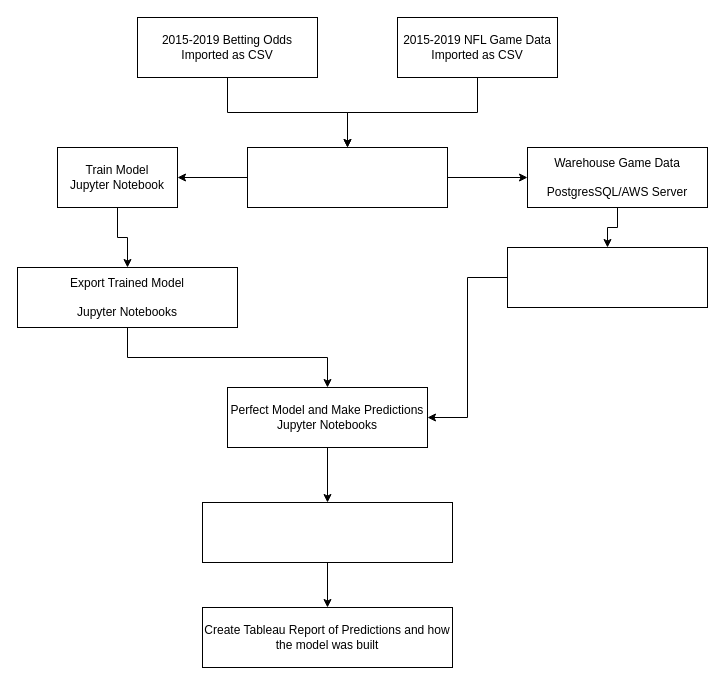
This 725x685 diagram has some shape labels left out. The shapes that lost their labels are listed below. From the top down, each one's box as (x1, y1, x2, y2) in pixels, then its label:
(246, 146, 448, 208): 2015-2019 Game and Odds Data CSV File
(506, 246, 708, 308): Export Testing Data 2019 Week 1-6 Matches
(202, 502, 452, 562): Predicted Differentials of the Week CSV file
